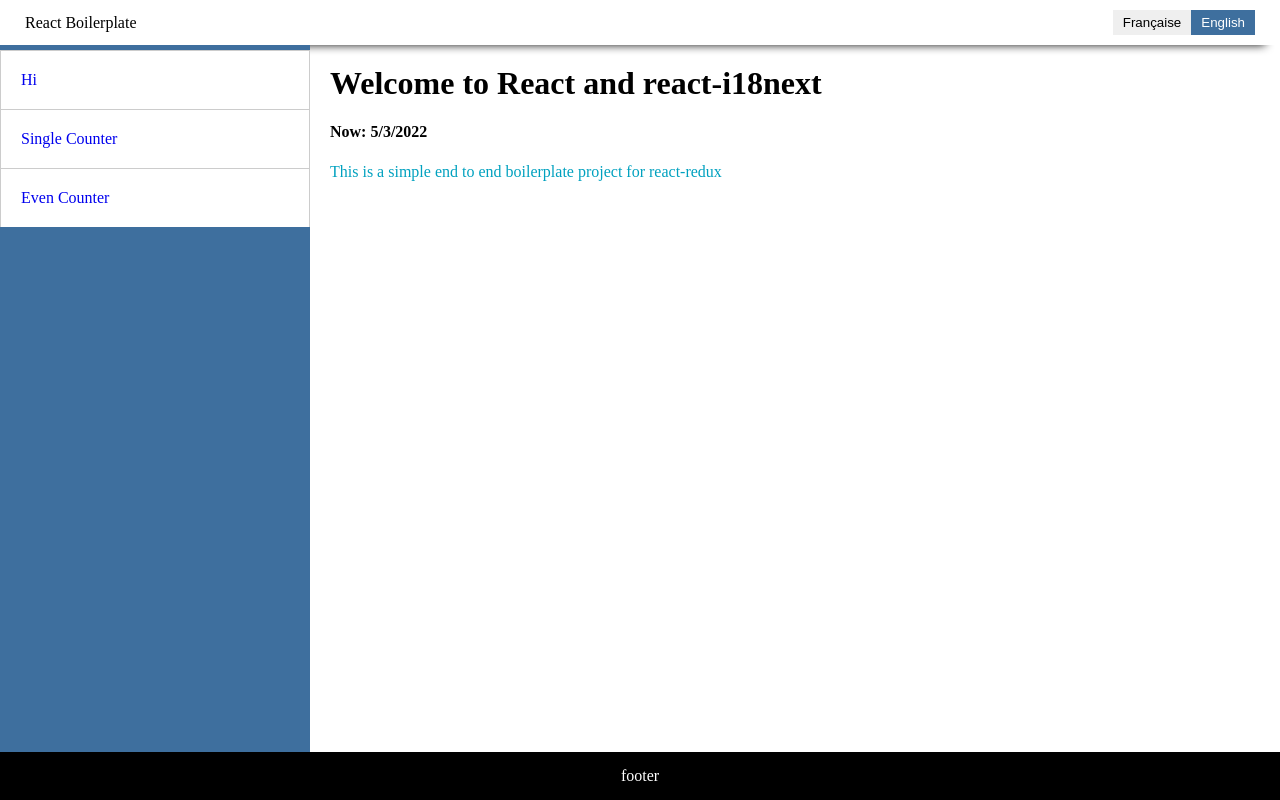
Test case: Homepage › Load Even Counter
Click the link "Even Counter" at (65, 198), box [21,189,109,206]
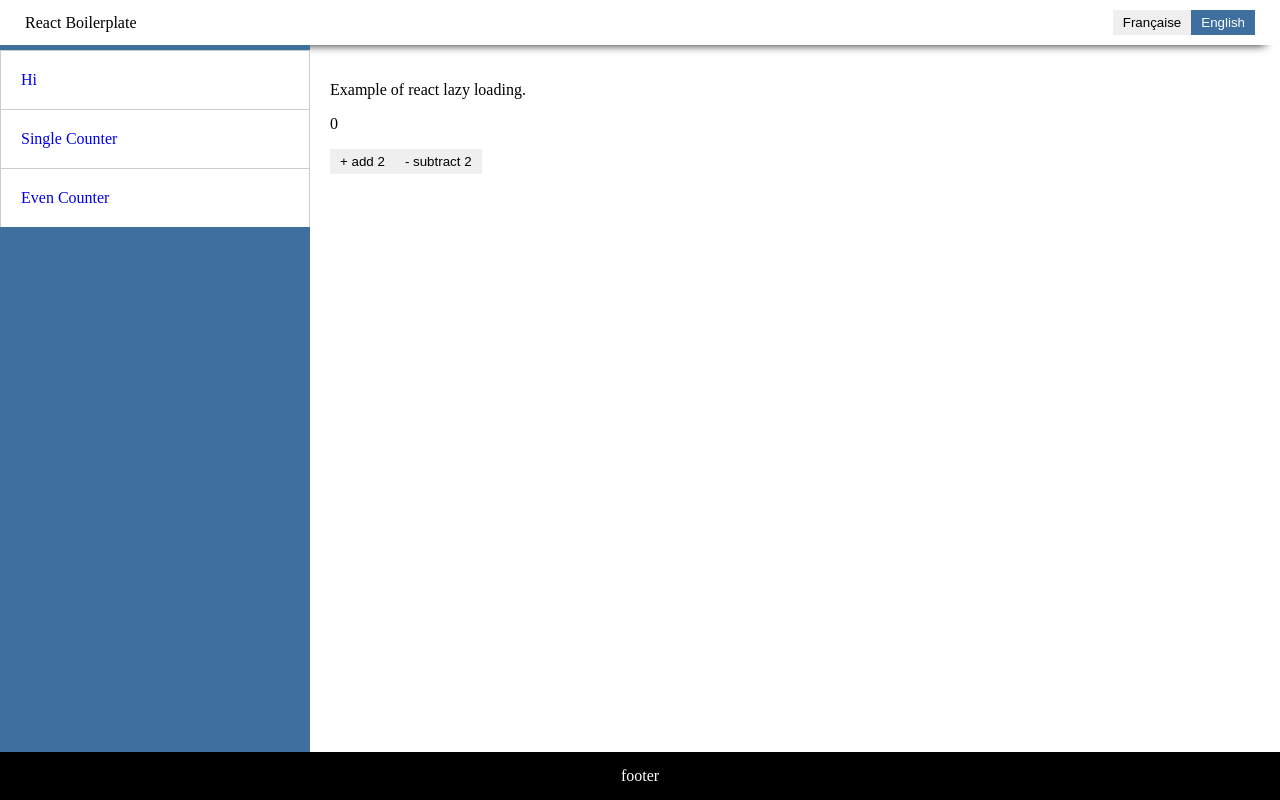
Expected: the button "+ add 2" is shown, [330,149,395,174]
